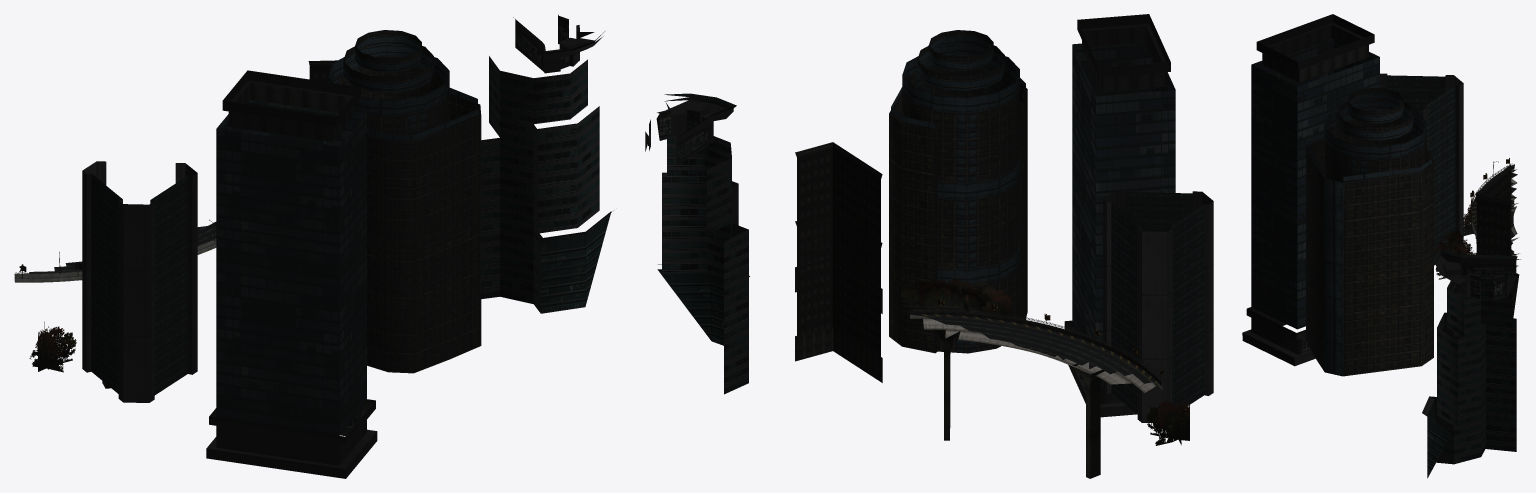
File: cell_0_2.gltf
The picture shows the model from 3 angles, left to right: view 1: azimuth 30°, elevation 25°; view 2: azimuth 150°, elevation 25°; view 3: azimuth 270°, elevation 25°; orthographic projection. The views are drawn at different scales.
Parts seen in each view (by area): view 1: cell_0_2; view 2: cell_0_2; view 3: cell_0_2.
Part boxes in pixels (x1,y1,x2,y2): cell_0_2: [14, 14, 612, 478]; cell_0_2: [645, 14, 1213, 478]; cell_0_2: [1242, 14, 1520, 478].
Bounding box in the file's own units: 269 × 161 × 136.
Materials: 30 (30 with a texture image).
